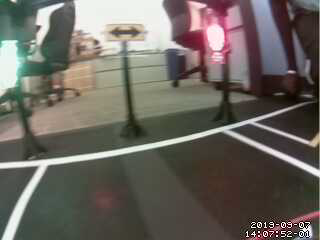Left_Right_sign: (102, 23, 147, 40)
Traffic_light_green: (1, 41, 18, 92)
Traffic_light_red: (205, 24, 226, 58)
